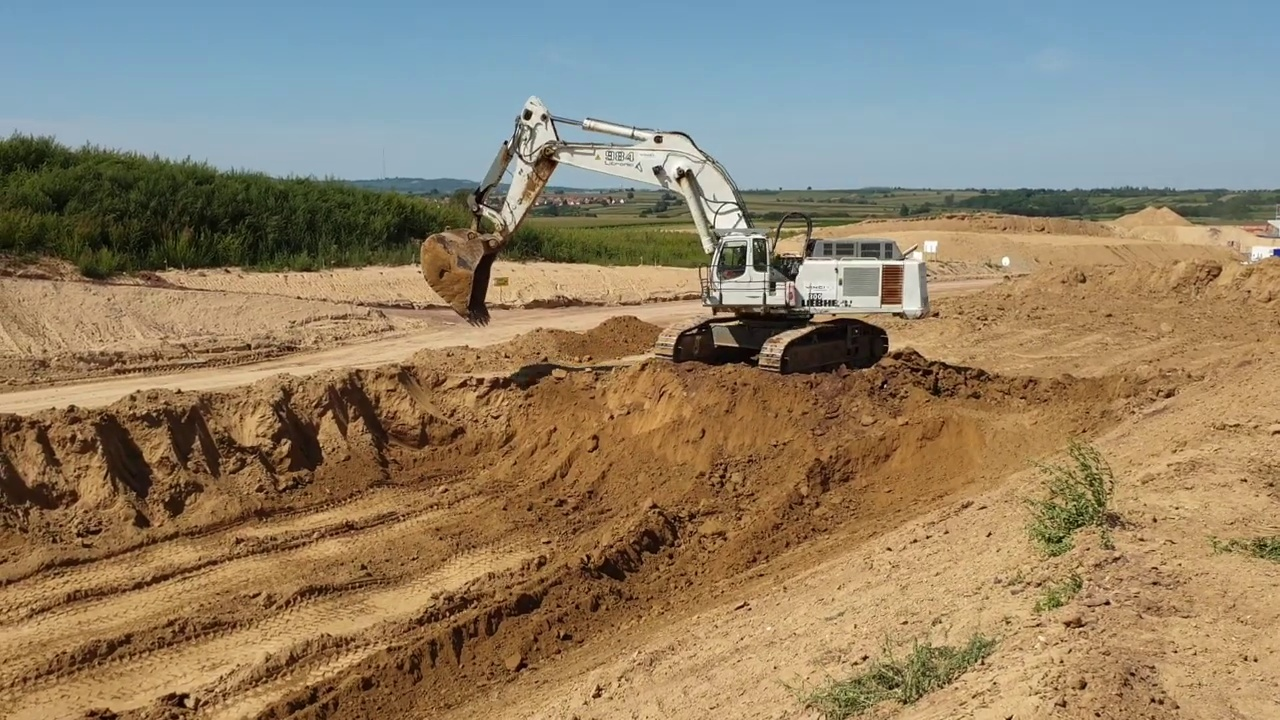excavator: (416, 88, 933, 382)
